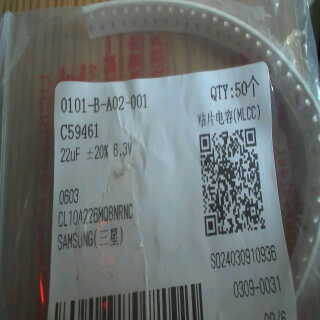22uF: (56, 145, 82, 163)
